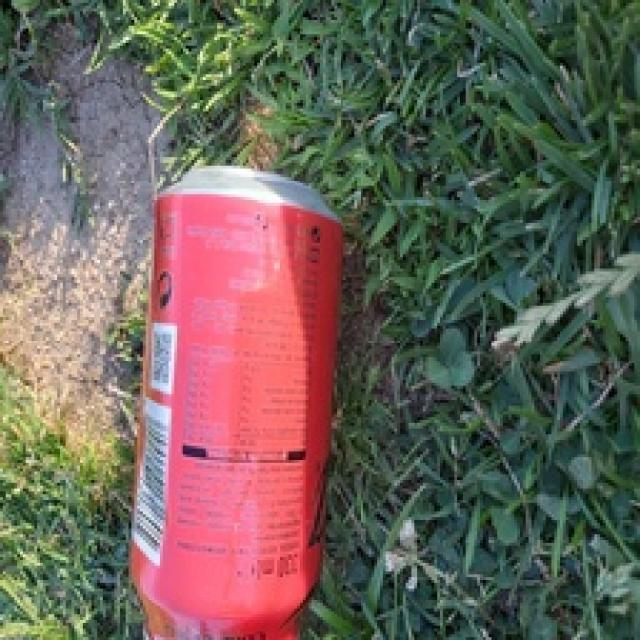recyclable: (124, 165, 345, 640)
